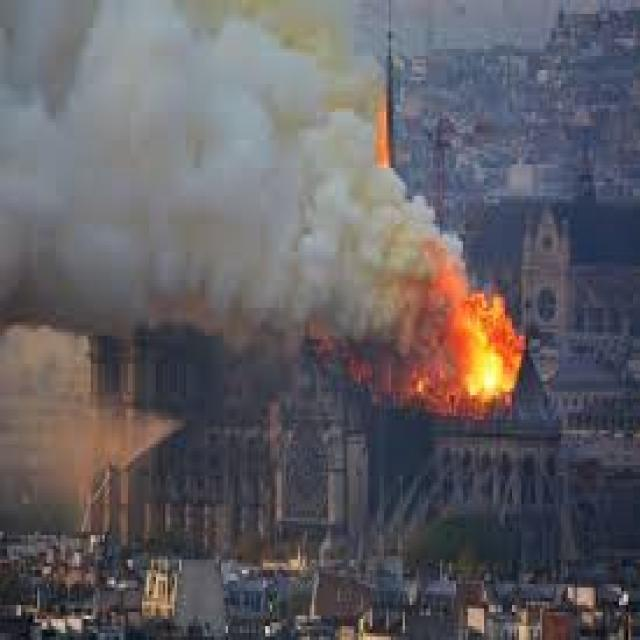Fire: (413, 239, 526, 407)
Smoke: (262, 146, 432, 322), (199, 0, 389, 148), (0, 0, 195, 143), (119, 150, 263, 323), (5, 150, 119, 332)
